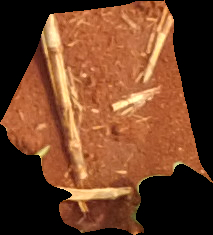soil: (1, 1, 213, 234)
